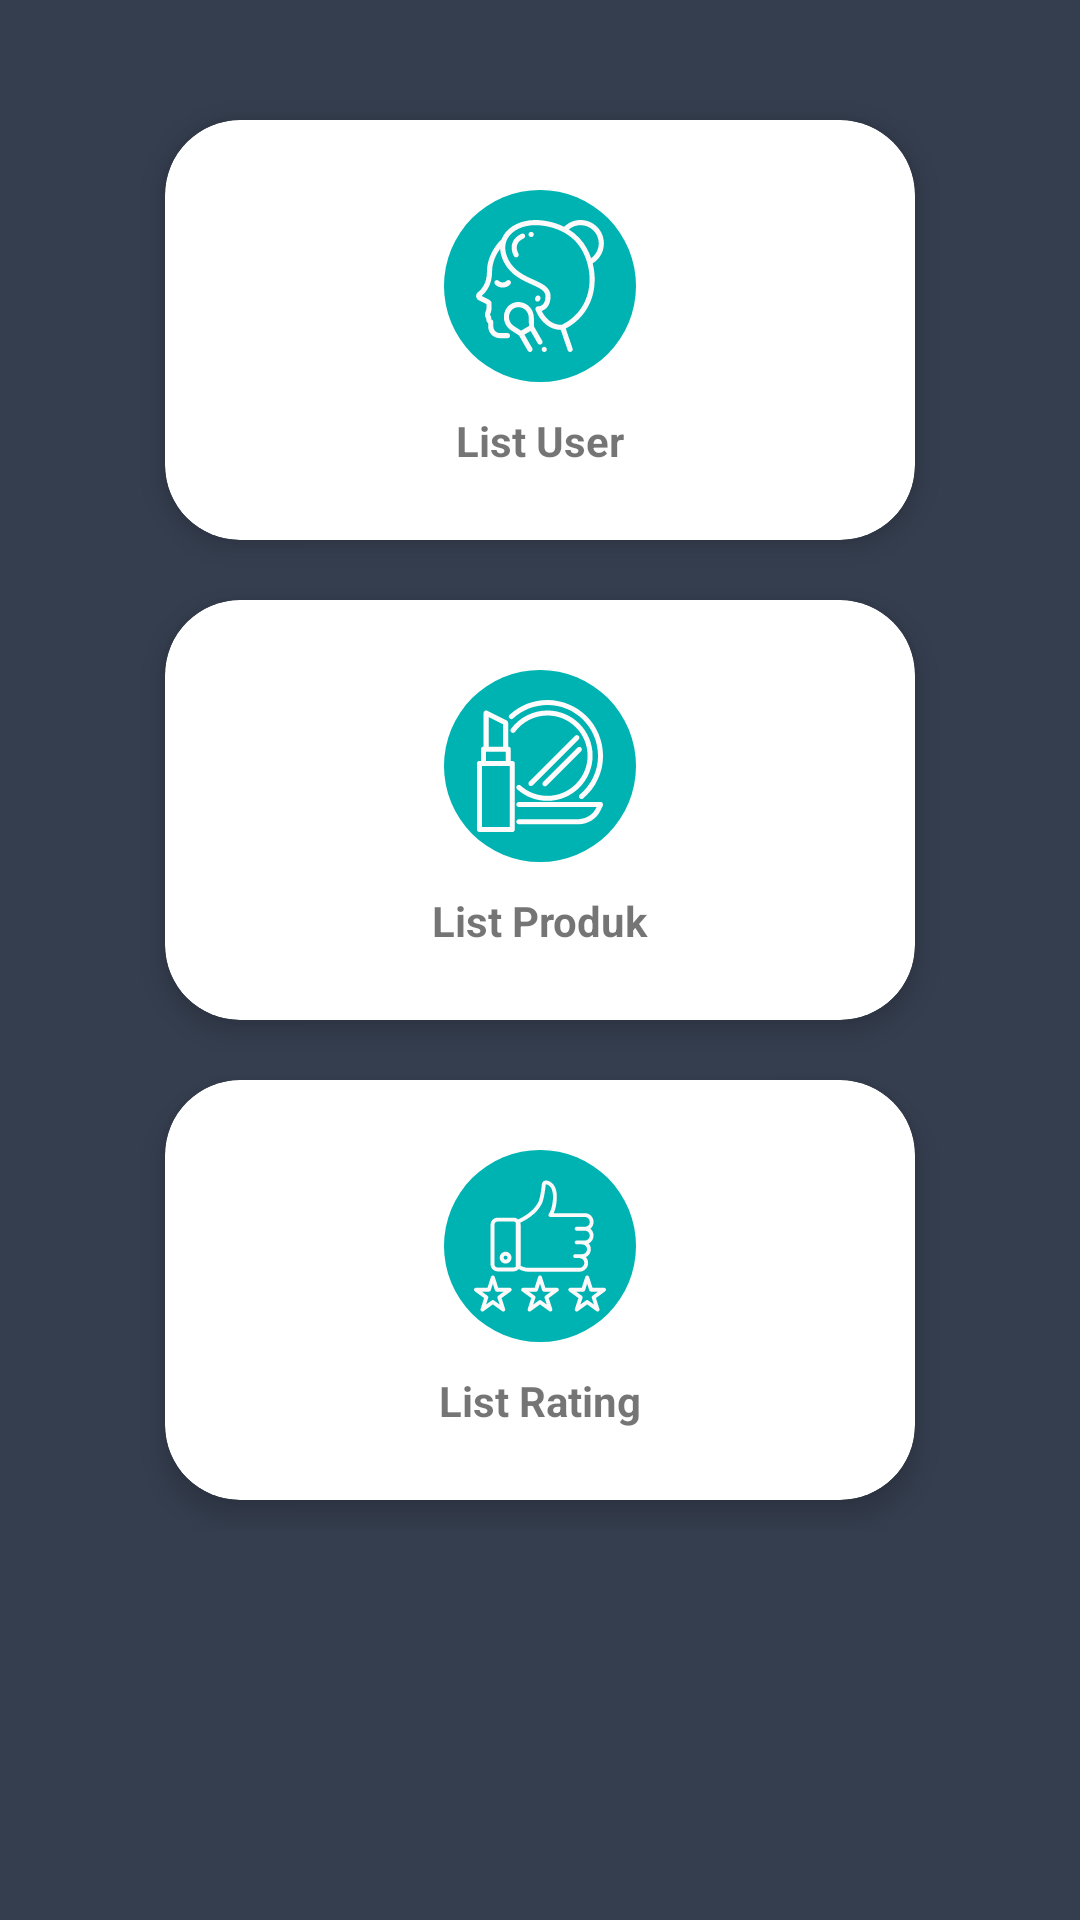

Named icons in this screenshot (1080px×1920px) and their bounding boxes, box(x1, y1, x2, y2):
makeup: box(444, 670, 636, 862)
review: box(444, 1150, 636, 1342)
